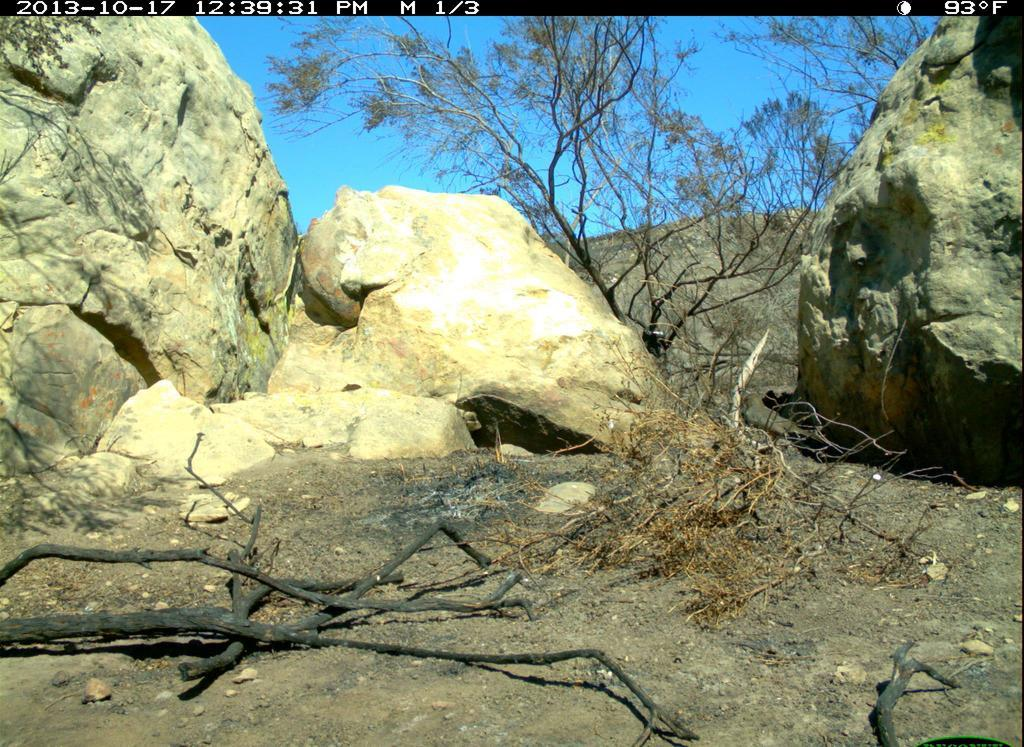bird: (728, 385, 845, 457)
